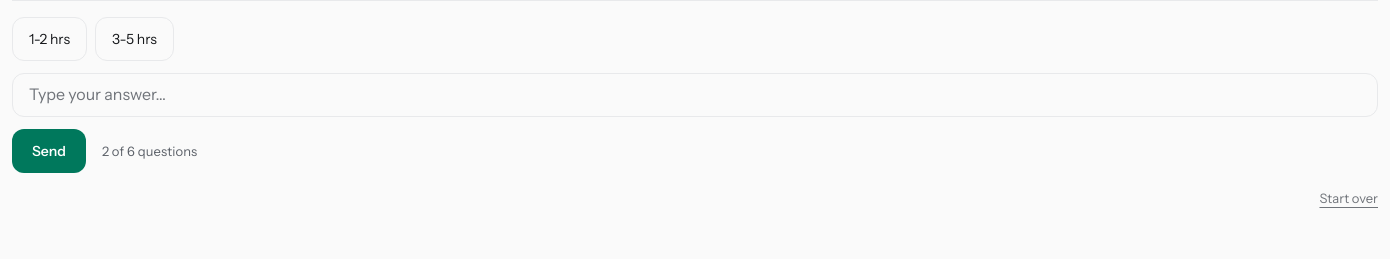
Composer › hands the answer back when the request never left
This screenshot has width=1390, height=259.
Type "get a dev job" into the field labelled "your answer" at (695, 95), box x1=12 y1=73 x2=1378 y2=117
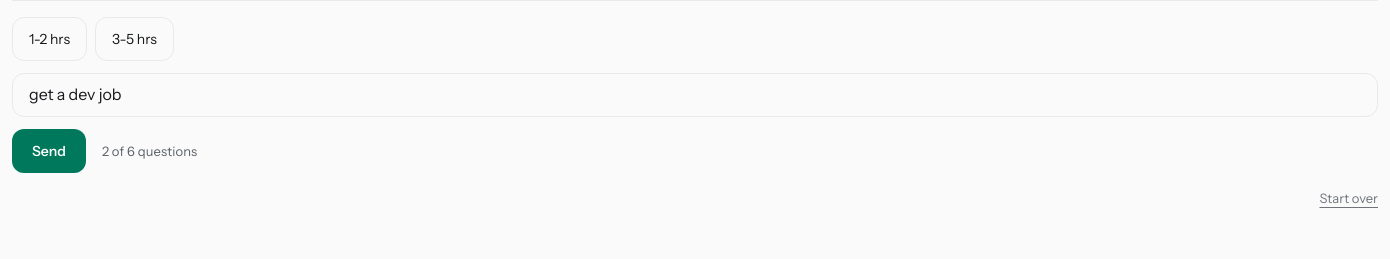
Submit the form named "Your answer", box x1=12 y1=73 x2=1378 y2=173
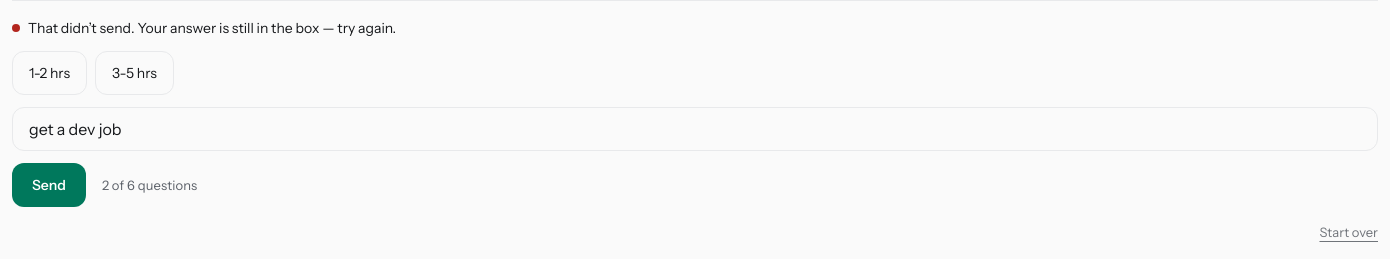
Expected: the button "Send" is enabled, x1=12 y1=163 x2=86 y2=207
Expected: the text "didn.t send" is shown, x1=28 y1=19 x2=396 y2=37
